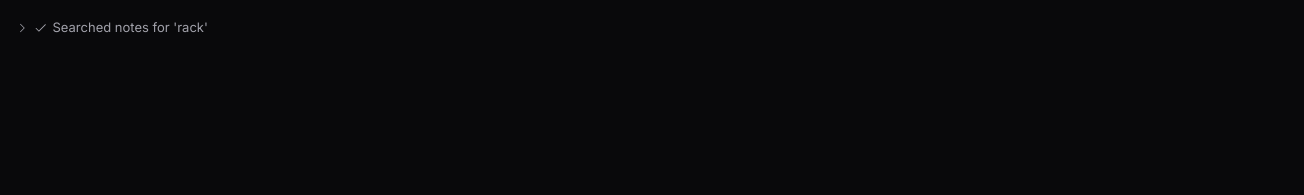
Test: ToolStep › test a result's HTML shows as text
The image size is (1304, 195).
Click the button. click: (130, 27)
box: x1=12 y1=16 x2=1292 y2=39
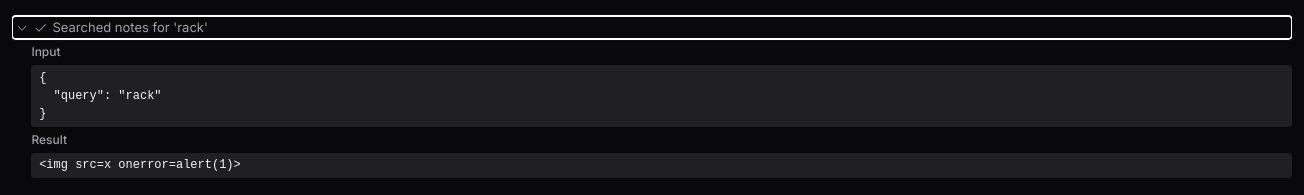
Check: the text "<img src=x onerror=alert(1)>" is shown, box x1=31 y1=152 x2=1292 y2=178
